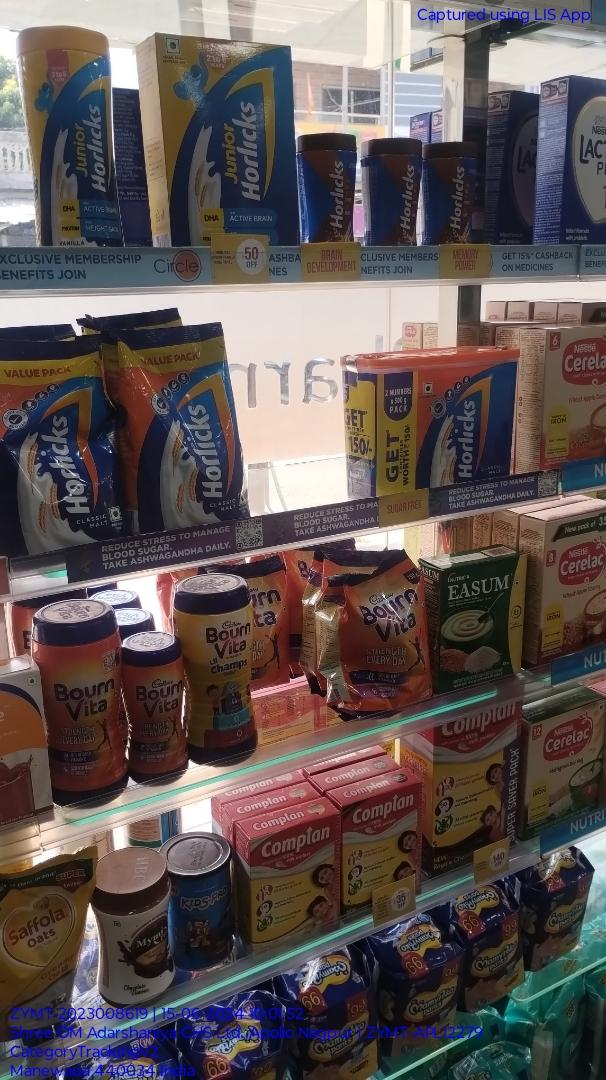BOURN_VITA_1_KG_JAR: (44, 598, 126, 805)
BOURN_VITA_500_G_JAR: (129, 632, 179, 786)
BOURN_VITA_750_G_POUCH: (333, 556, 429, 715)
COMPLAN_CHOCOLATE_1_KG_PACK: (436, 715, 524, 872)
COMPLAN_CHOCOLATE_200_GMS_PACK: (345, 794, 421, 915)
COMPLAN_KESAR_BADAM_200_GMS_PACK: (244, 822, 339, 958)
HORLICKS_JUNIOR_VANILLA_500_GM_JAR: (23, 27, 124, 245)
HORLICK_CHOCOLATE_200_G_JAR: (364, 137, 418, 245), (304, 132, 356, 240), (424, 144, 477, 246)
HORLICK_CLASSIC_MALT_750_G_POUCH: (123, 322, 243, 530), (0, 338, 118, 549)
HORLICK_MALT_1_KG_CONTAINER: (349, 345, 515, 493)
